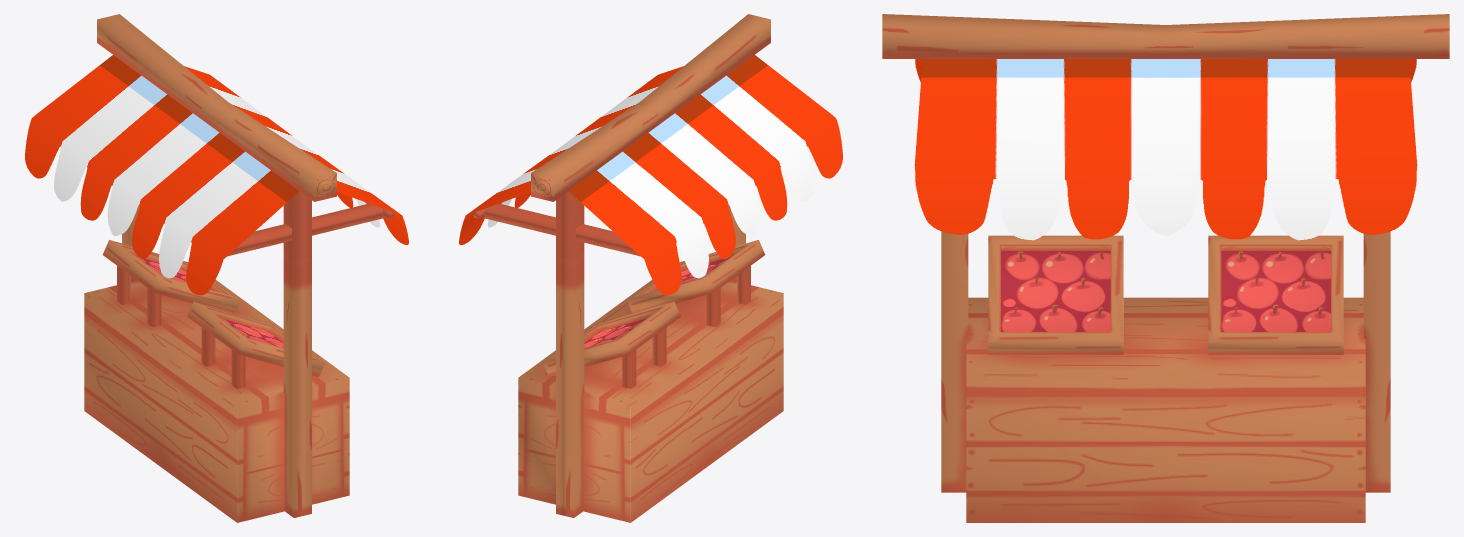
The model's file is shop.glb.
3 views of the same model, side by side, from view 1: azimuth 30°, elevation 25°; view 2: azimuth 150°, elevation 25°; view 3: azimuth 270°, elevation 25° (orthographic). The views are drawn at different scales.
Parts seen in each view (by area): view 1: Object_2; view 2: Object_2; view 3: Object_2.
Boxes of the visible parts, x1=… form: Object_2: x1=25, y1=14, x2=408, y2=522; Object_2: x1=459, y1=14, x2=842, y2=522; Object_2: x1=882, y1=14, x2=1449, y2=522.
Size of the model in its own units: 3.72 by 6.06 by 6.69.
Materials: 1 (1 with a texture image).
